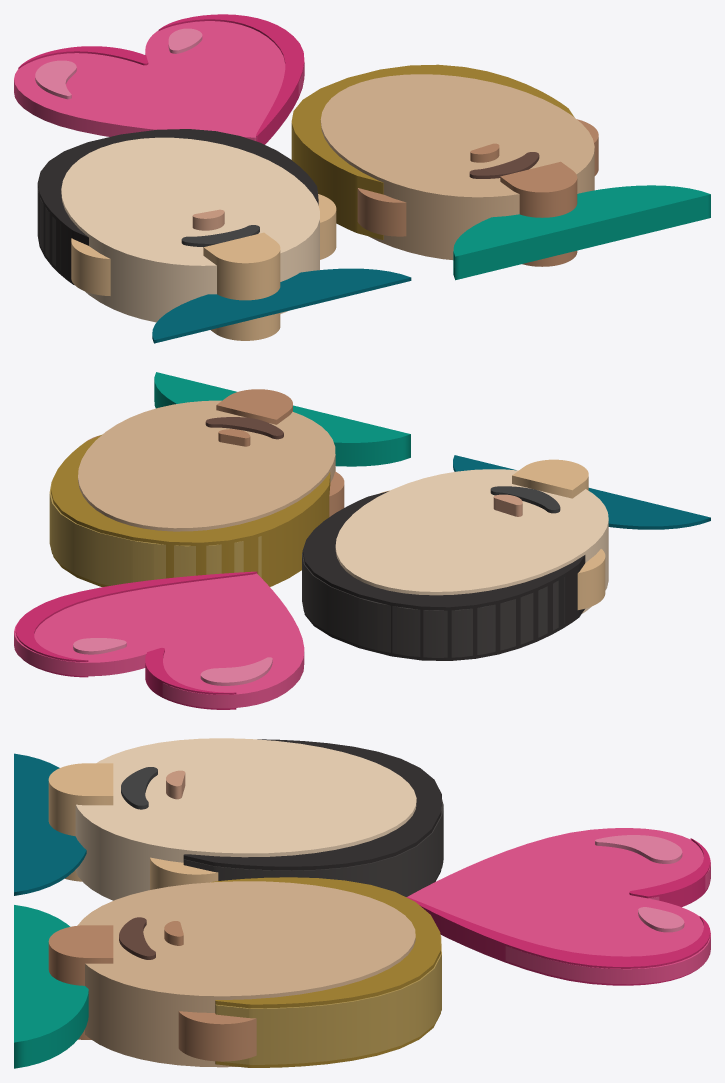
File: emoji_u1f468_1f3fb_200d_2764_200d_1f468_1f3fc.glb
3 renders of one model, top to bottom at view 1: azimuth 30°, elevation 25°; view 2: azimuth 150°, elevation 25°; view 3: azimuth 270°, elevation 25°, orthographic. The views are drawn at different scales.
Parts seen in each view (by area): view 1: emoji_u1f468_1f3fb_200d_2764_200d_1f468_1f3fc; view 2: emoji_u1f468_1f3fb_200d_2764_200d_1f468_1f3fc; view 3: emoji_u1f468_1f3fb_200d_2764_200d_1f468_1f3fc.
Boxes of the visible parts, x1=… form: emoji_u1f468_1f3fb_200d_2764_200d_1f468_1f3fc: x1=14, y1=14, x2=710, y2=343; emoji_u1f468_1f3fb_200d_2764_200d_1f468_1f3fc: x1=14, y1=372, x2=710, y2=709; emoji_u1f468_1f3fb_200d_2764_200d_1f468_1f3fc: x1=14, y1=738, x2=710, y2=1068.
Size of the model in its own units: 0.0345 by 0.005 by 0.0338.
